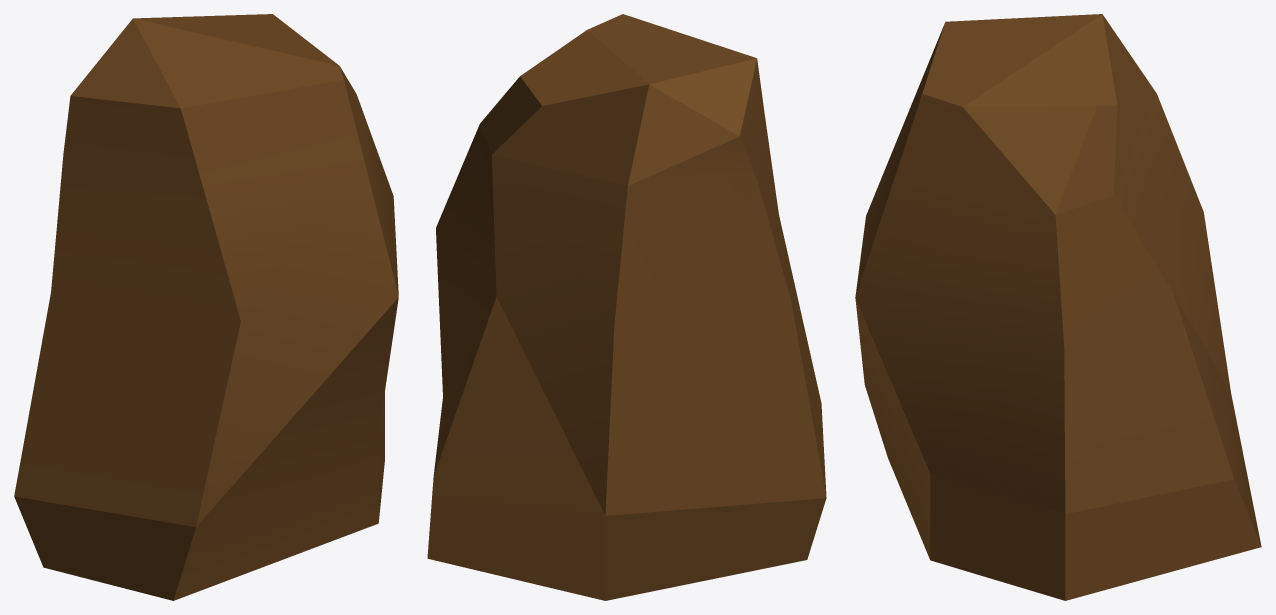
File: Rock5.FBX
The picture shows the model from 3 angles, left to right: view 1: azimuth 30°, elevation 25°; view 2: azimuth 150°, elevation 25°; view 3: azimuth 270°, elevation 25°; orthographic projection. The views are drawn at different scales.
Visible parts, largest first — view 1: Rock5; view 2: Rock5; view 3: Rock5.
Boxes of the visible parts, <box> form: Rock5: <box>14,14,398,600</box>; Rock5: <box>427,14,826,600</box>; Rock5: <box>855,14,1261,600</box>.
Bounding box in the file's own units: 233 × 278 × 212.
